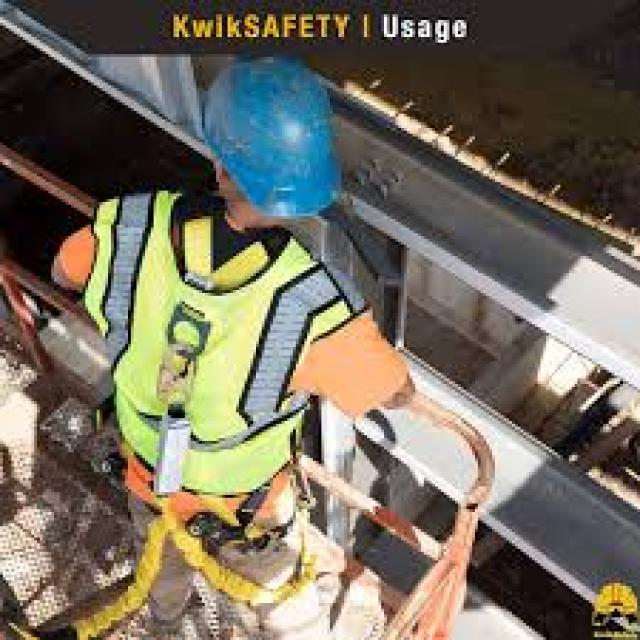harness: (0, 307, 219, 640)
